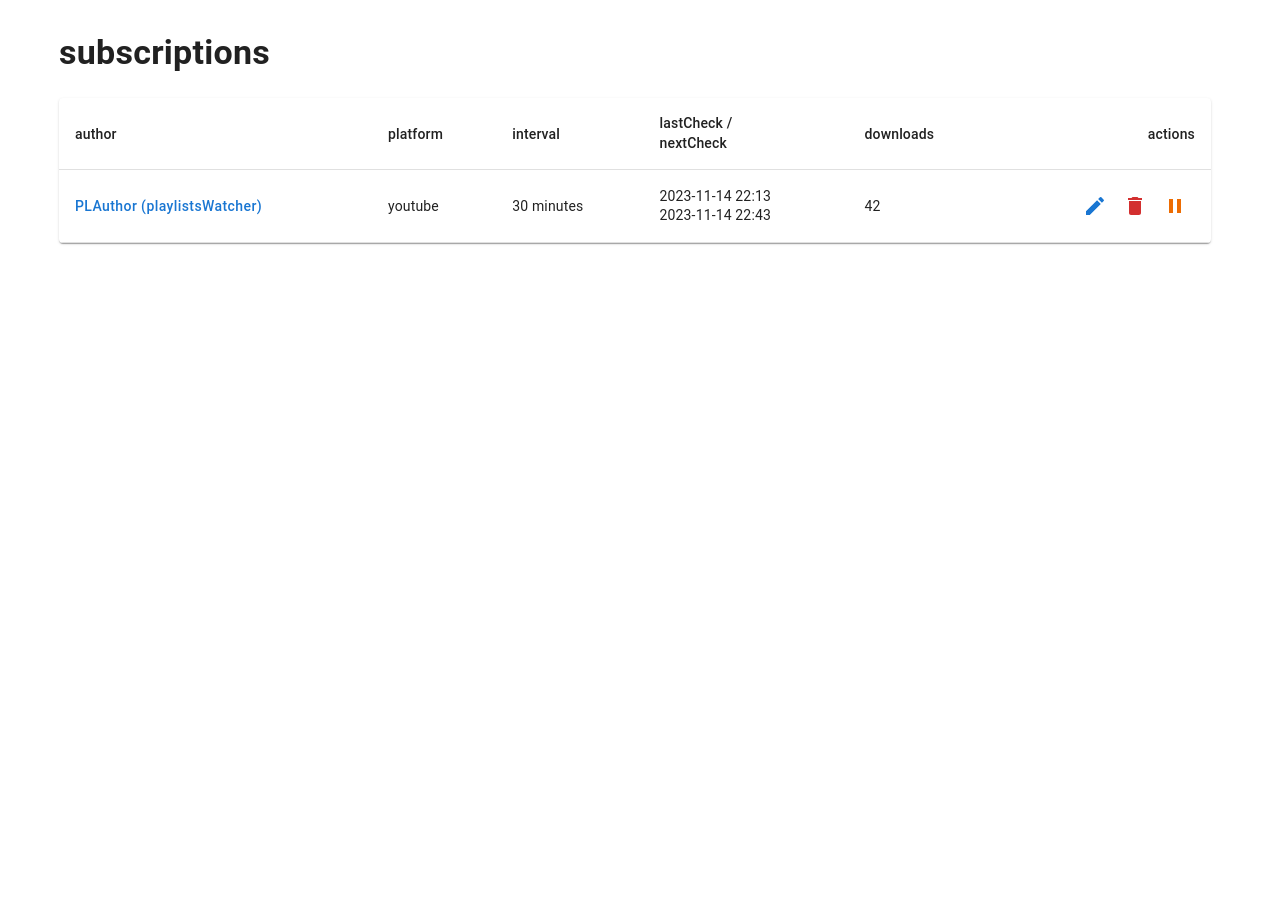
Test case: SubscriptionsPage › opens unsubscribe modal for playlist subscription
The width and height of the screenshot is (1280, 900).
Click the button titled "unsubscribe". click: coordinates (1135, 206)
box: [1115,186,1155,226]
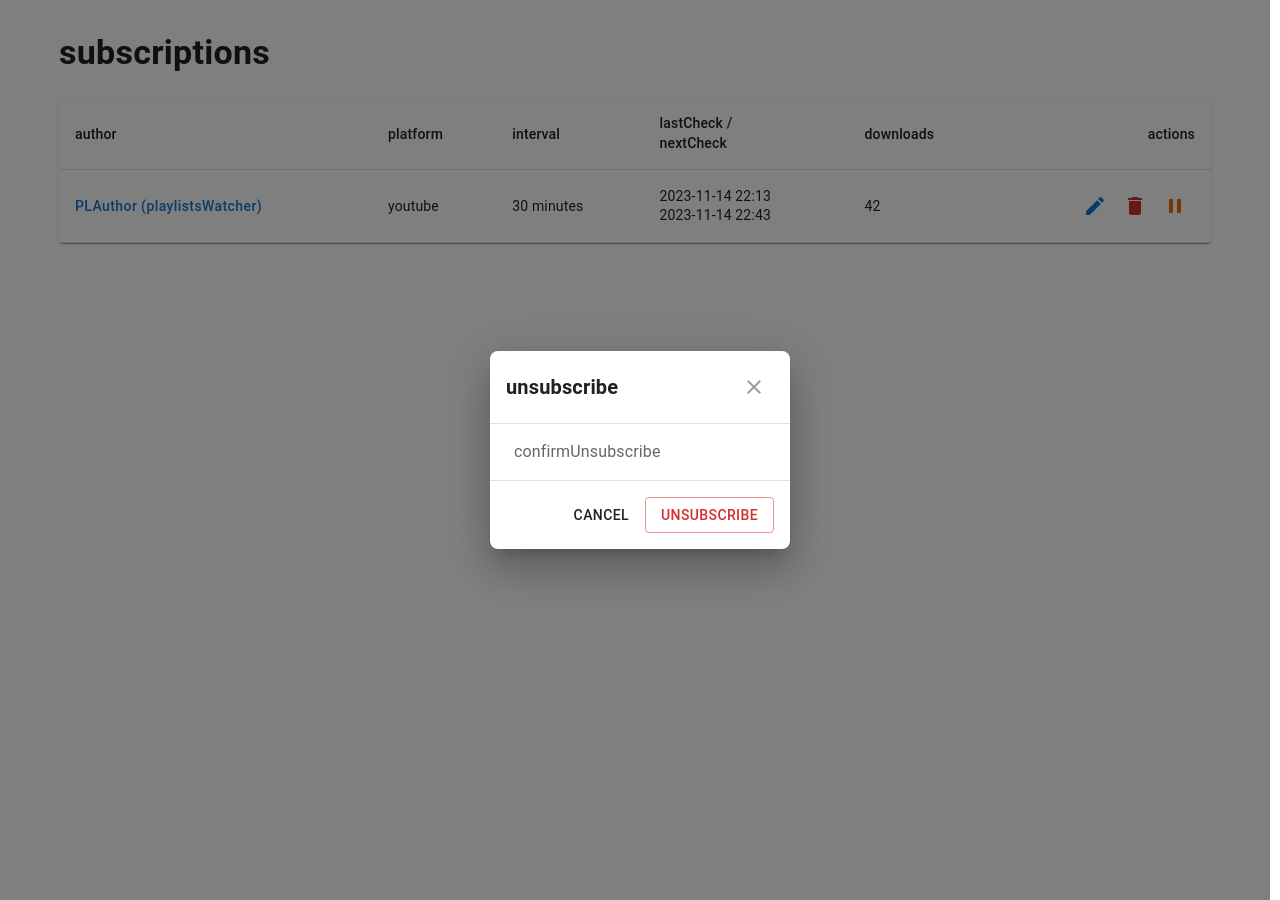
Now the text "confirmUnsubscribe" is shown, box [514,442,661,461]
Now the button "unsubscribe" is shown, box [645,497,774,533]
